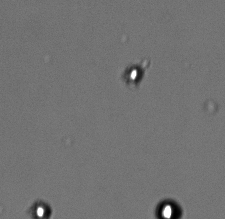Living Cell: (155, 196, 182, 217), (123, 62, 145, 87), (28, 198, 53, 217)
